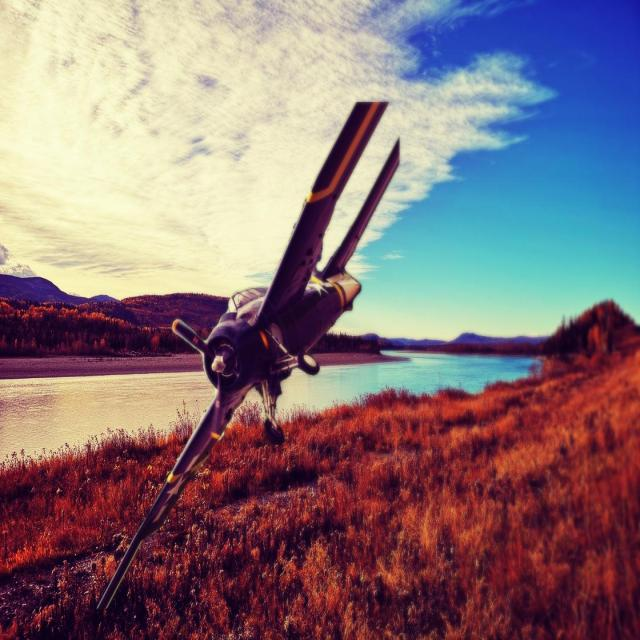airplane: (95, 98, 401, 613)
